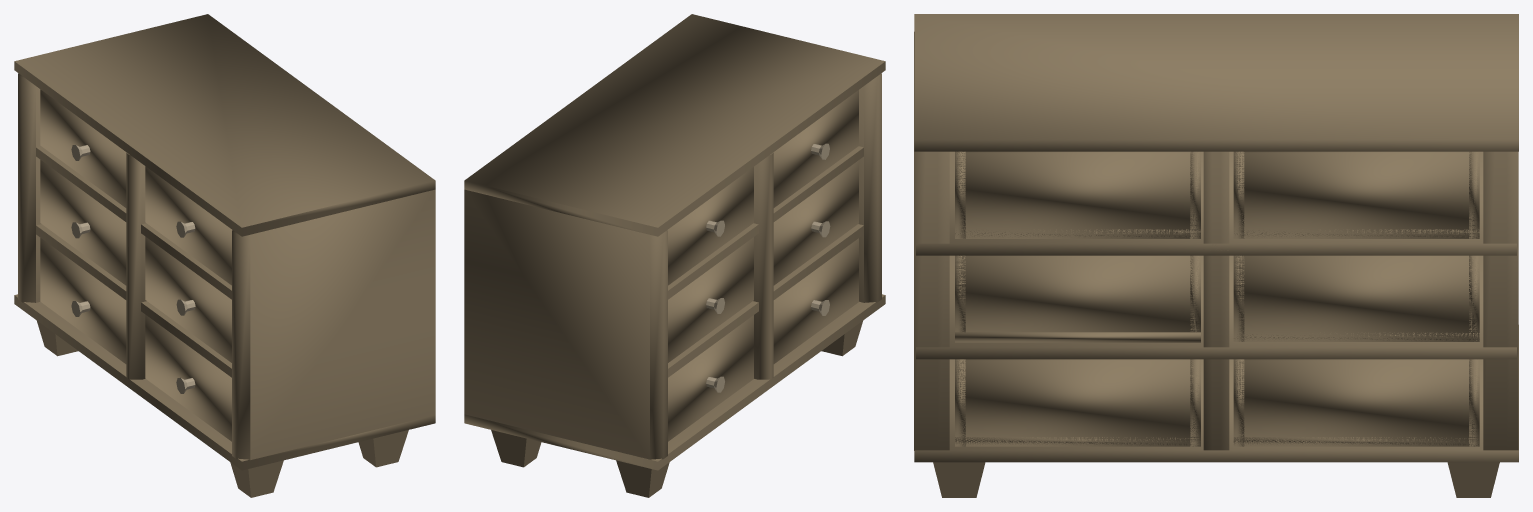
File: bedRoom_drawer 1.fbx
The picture shows the model from 3 angles, left to right: view 1: azimuth 30°, elevation 25°; view 2: azimuth 150°, elevation 25°; view 3: azimuth 270°, elevation 25°; orthographic projection. The views are drawn at different scales.
Visible parts, largest first — view 1: top_plane, right_wall, top_plane.003, drawer_front6, drawer_front5, drawer_front3, drawer_front4, left_wall, drawer_front2, drawer_front1, mid_wall, top_plane.002 (+4 smaller); view 2: top_plane, left_wall, top_plane.003, drawer_front5, drawer_front6, drawer_front3, drawer_front4, right_wall, drawer_front1, drawer_front2, mid_wall, top_plane.002 (+4 smaller); view 3: top_plane, drawer_back3, drawer_back2, drawer_back6, drawer_back1, drawer_back5, drawer_back4, top_plane.002, top_plane.003, top_plane.001, right_wall, left_wall (+20 smaller).
Boxes of the visible parts, x1,y1,x2,y2 form: top_plane: (14, 14, 435, 236); right_wall: (232, 189, 435, 460); top_plane.003: (14, 294, 435, 470); drawer_front6: (145, 314, 231, 441); drawer_front5: (40, 238, 126, 363); drawer_front3: (40, 160, 126, 285); drawer_front4: (145, 236, 231, 362); left_wall: (18, 73, 41, 302); drawer_front2: (145, 166, 232, 285); drawer_front1: (40, 89, 126, 207); mid_wall: (126, 152, 146, 379); top_plane.002: (36, 224, 231, 377); top_plane: (464, 14, 885, 236); left_wall: (464, 189, 667, 459); top_plane.003: (464, 294, 885, 470); drawer_front5: (668, 315, 753, 441); drawer_front6: (773, 238, 858, 363); drawer_front3: (668, 237, 753, 362); drawer_front4: (773, 160, 858, 285); right_wall: (858, 73, 881, 302); drawer_front1: (667, 167, 753, 285); drawer_front2: (773, 90, 858, 207); mid_wall: (753, 152, 773, 379); top_plane.002: (668, 224, 863, 377); top_plane: (914, 14, 1518, 151); drawer_back3: (1233, 255, 1479, 341); drawer_back2: (955, 151, 1200, 238); drawer_back6: (955, 359, 1200, 446); drawer_back1: (1233, 151, 1479, 238); drawer_back5: (1233, 359, 1479, 446); drawer_back4: (955, 255, 1200, 332); top_plane.002: (916, 255, 1516, 359); top_plane.003: (914, 325, 1518, 462); top_plane.001: (916, 151, 1516, 255); right_wall: (914, 32, 949, 450); left_wall: (1483, 151, 1518, 450).
Bounding box in the file's own units: 83.96 × 117 × 170.
